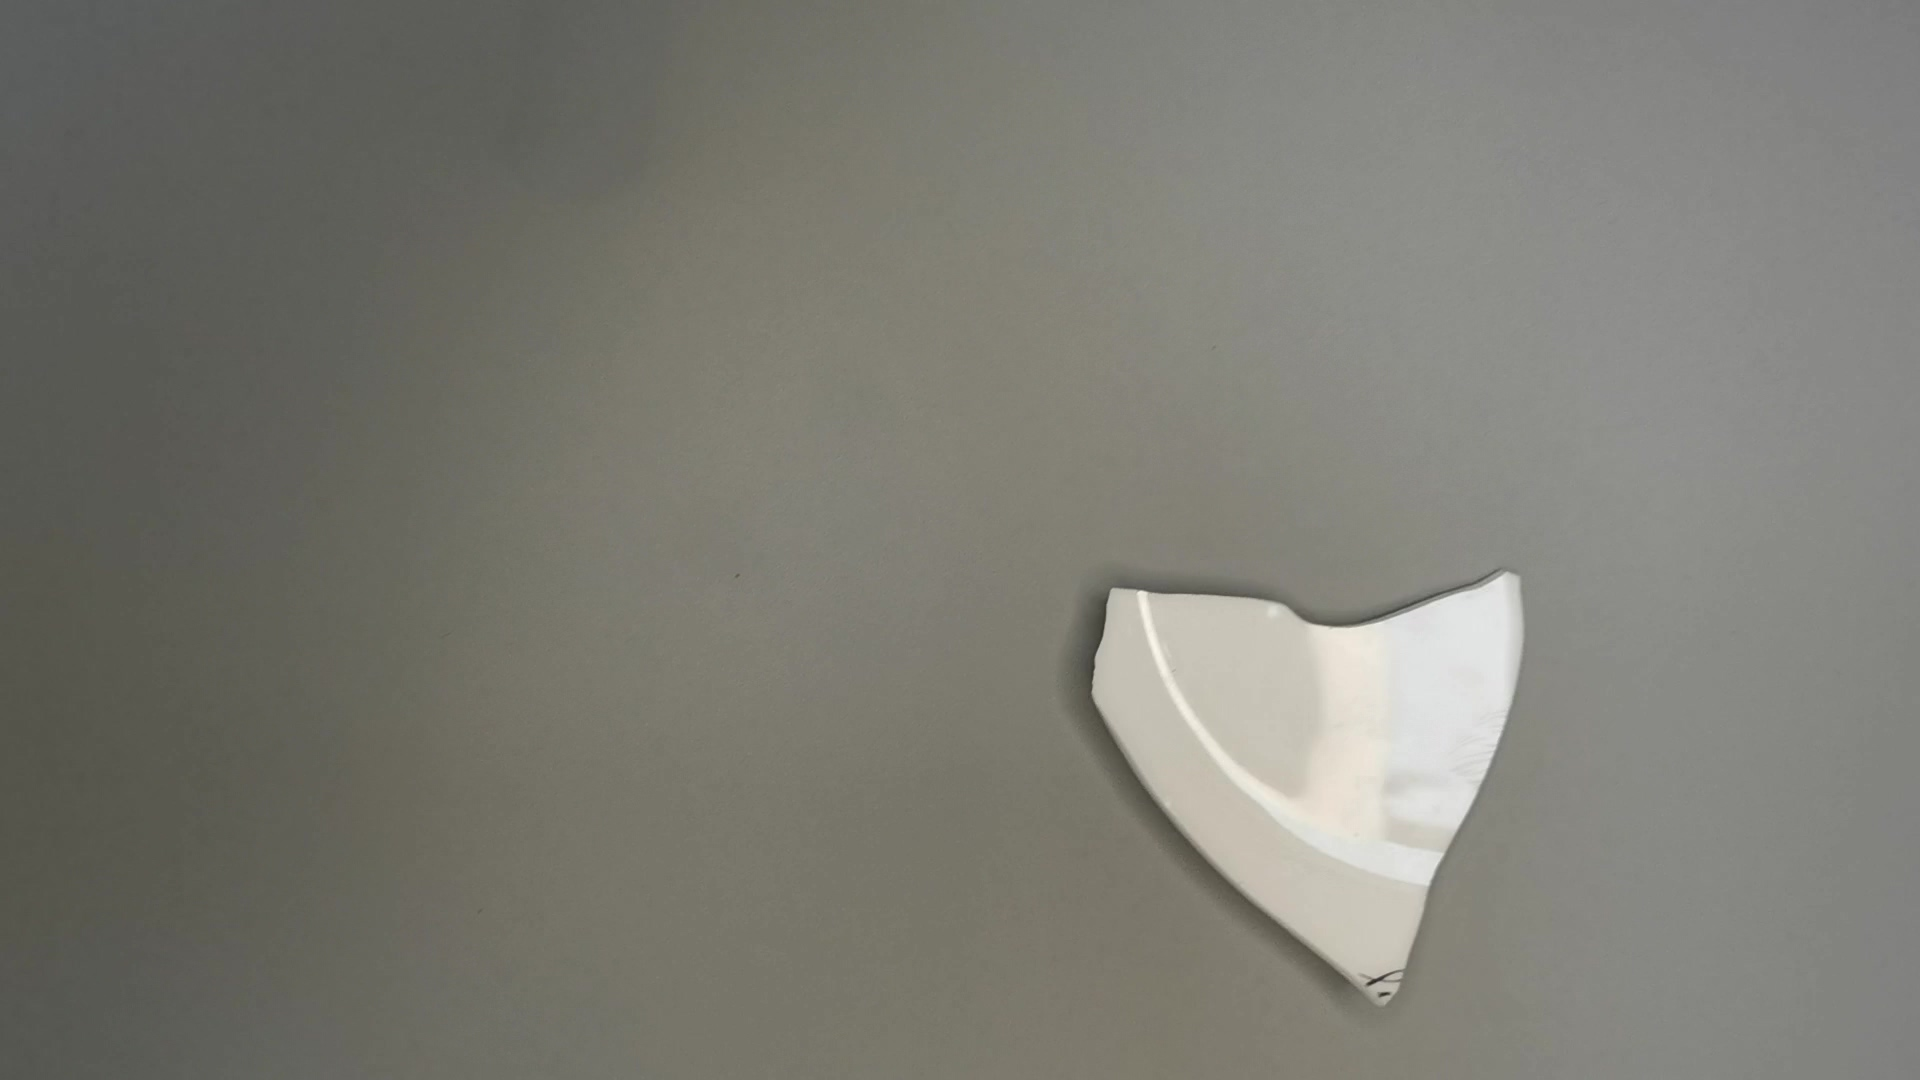ceramic: (1083, 564, 1542, 1025)
